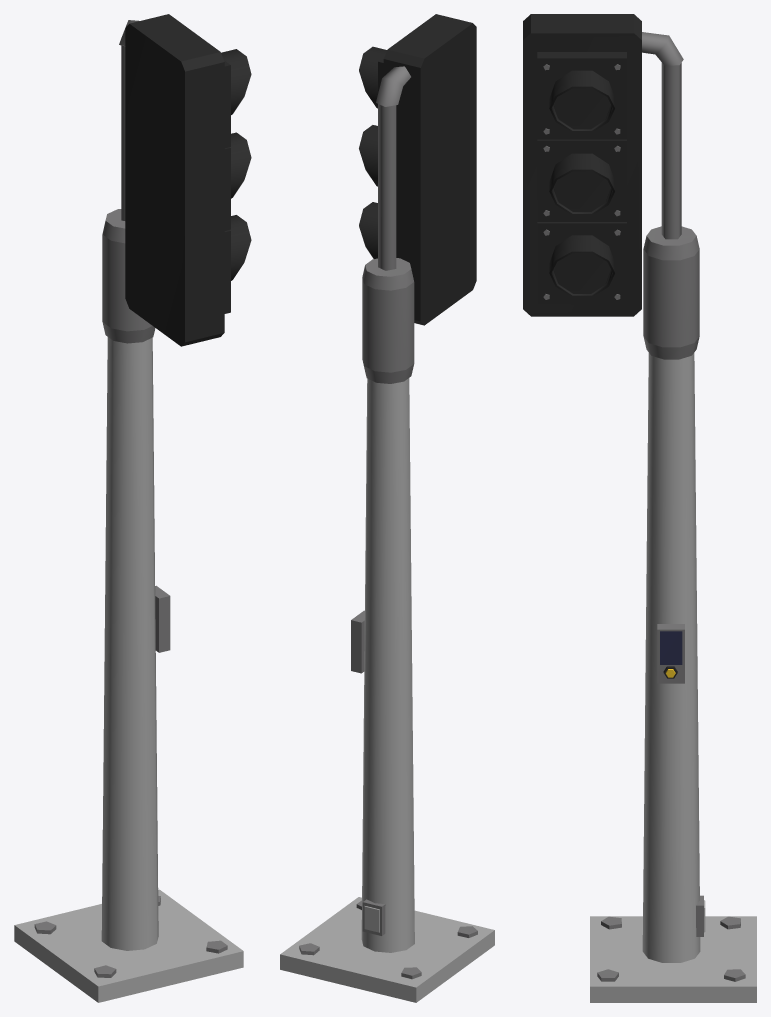
Rendered from SM_traffic_lights_2.gltf.
3 renders of one model, left to right at view 1: azimuth 30°, elevation 25°; view 2: azimuth 150°, elevation 25°; view 3: azimuth 270°, elevation 25°, orthographic. The views are drawn at different scales.
Parts seen in each view (by area): view 1: SM_traffic_lights_2; view 2: SM_traffic_lights_2; view 3: SM_traffic_lights_2.
Boxes of the visible parts, bbox=[...] form: SM_traffic_lights_2: bbox=[14, 14, 251, 1002]; SM_traffic_lights_2: bbox=[280, 14, 494, 1002]; SM_traffic_lights_2: bbox=[523, 14, 756, 1002].
Size of the model in its own units: 0.625 by 3.9 by 0.8759.
Materials: 1 (1 with a texture image).
